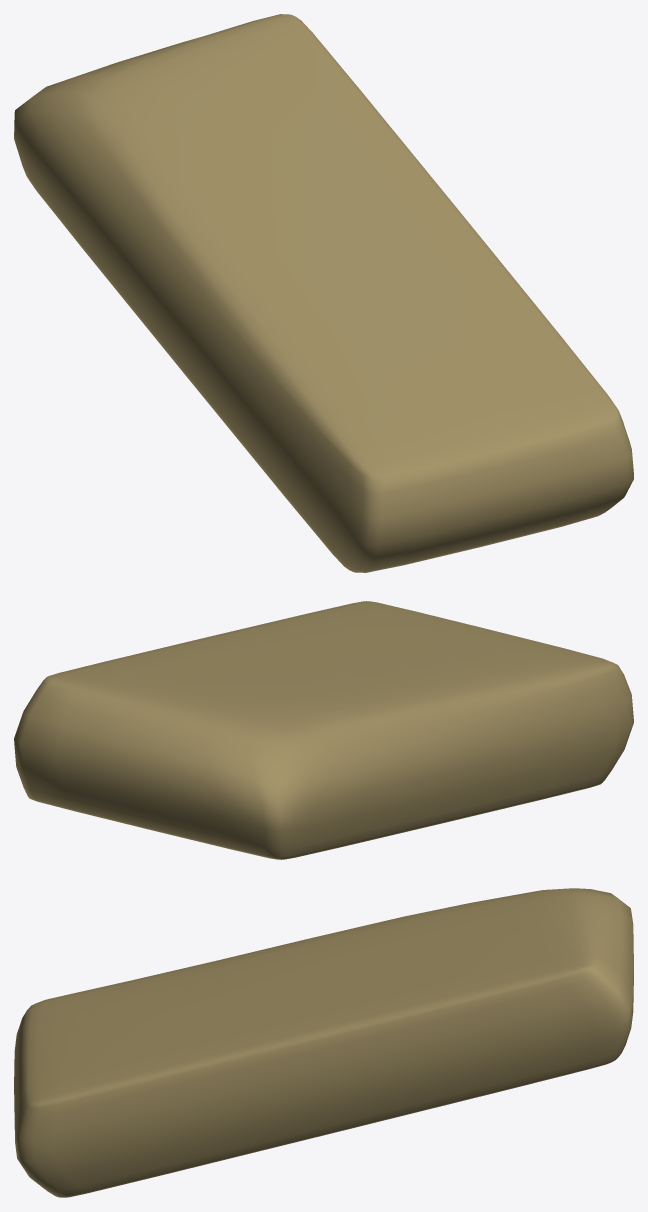
Rendered from Pillow.fbx.
3 views of the same model, one above another, from view 1: azimuth 30°, elevation 25°; view 2: azimuth 150°, elevation 25°; view 3: azimuth 270°, elevation 25° (orthographic). The views are drawn at different scales.
Parts seen in each view (by area): view 1: Cube.004; view 2: Cube.004; view 3: Cube.004.
Boxes of the visible parts, <box> form: Cube.004: <box>14,14,633,572</box>; Cube.004: <box>14,601,633,859</box>; Cube.004: <box>14,888,633,1197</box>.
Size of the model in its own units: 8.39 by 7.65 by 18.55.
